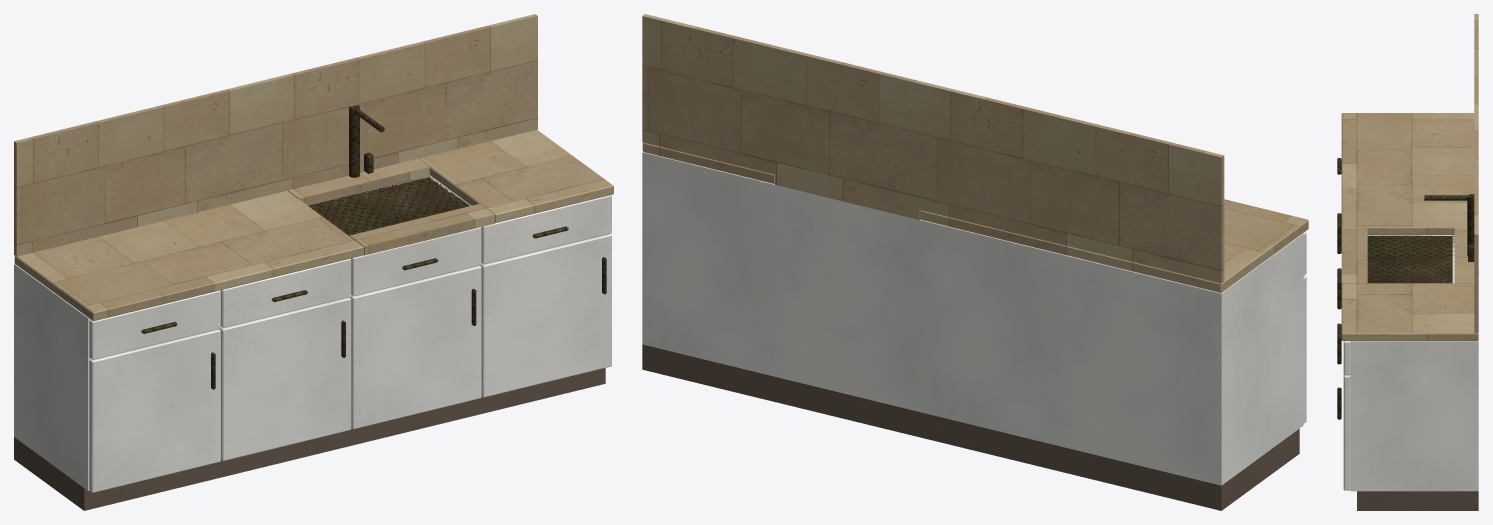
The model's file is kitchen_counter_sink.fbx.
3 renders of one model, left to right at view 1: azimuth 30°, elevation 25°; view 2: azimuth 150°, elevation 25°; view 3: azimuth 270°, elevation 25°, orthographic. The views are drawn at different scales.
Parts seen in each view (by area): view 1: kitchen_counter_sink; view 2: kitchen_counter_sink; view 3: kitchen_counter_sink.
Boxes of the visible parts, <box> form: kitchen_counter_sink: <box>14,14,613,510</box>; kitchen_counter_sink: <box>642,14,1308,510</box>; kitchen_counter_sink: <box>1337,14,1478,510</box>.
Size of what is drawn, in the model's own units: 240 by 140 by 65.
Materials: 4 (4 with a texture image).
